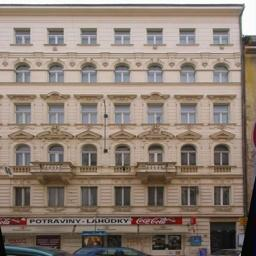building: (0, 0, 243, 225)
